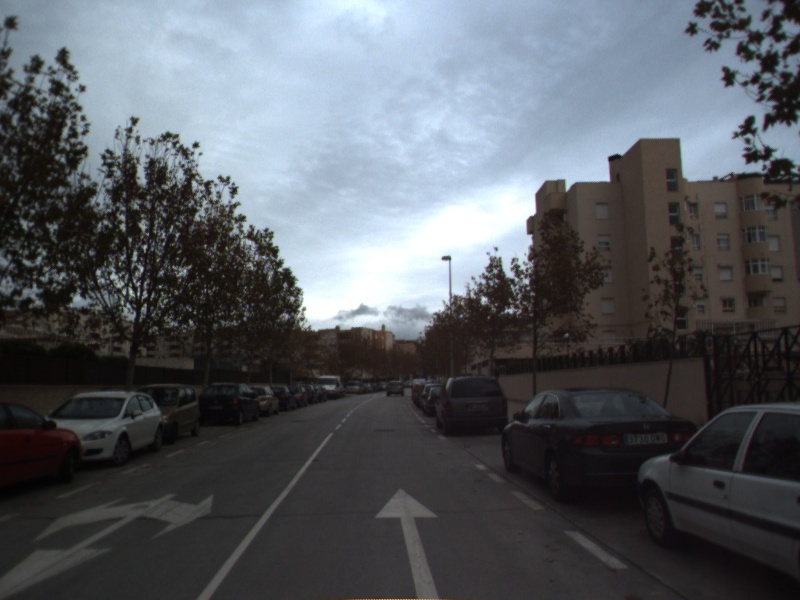STRAIGHT: (372, 484, 442, 600)
